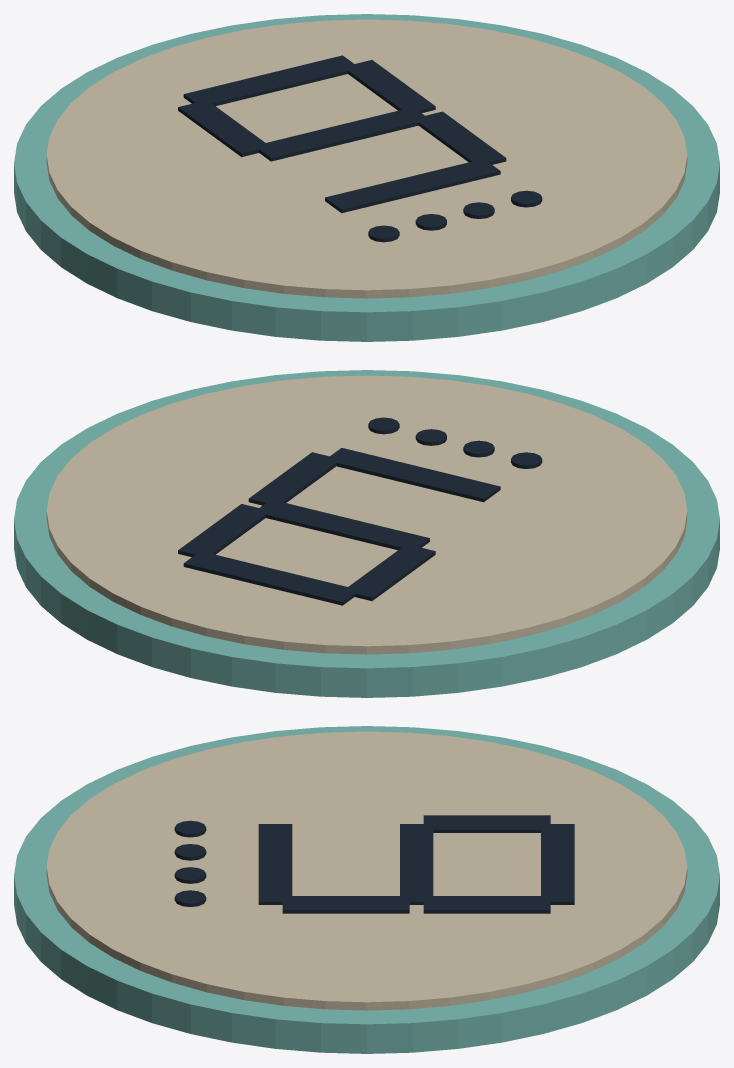
Rendered from space_number_9.glb.
The picture shows the model from 3 angles, top to bottom: view 1: azimuth 30°, elevation 25°; view 2: azimuth 150°, elevation 25°; view 3: azimuth 270°, elevation 25°; orthographic projection.
Visible parts, largest first — view 1: FixedDetails; view 2: FixedDetails; view 3: FixedDetails.
Boxes of the visible parts, box(x1,y1,x2,y2) form: FixedDetails: box(14, 14, 719, 341); FixedDetails: box(14, 370, 719, 697); FixedDetails: box(14, 726, 719, 1053).
Bounding box in the file's own units: 0.54 × 0.036 × 0.54.
